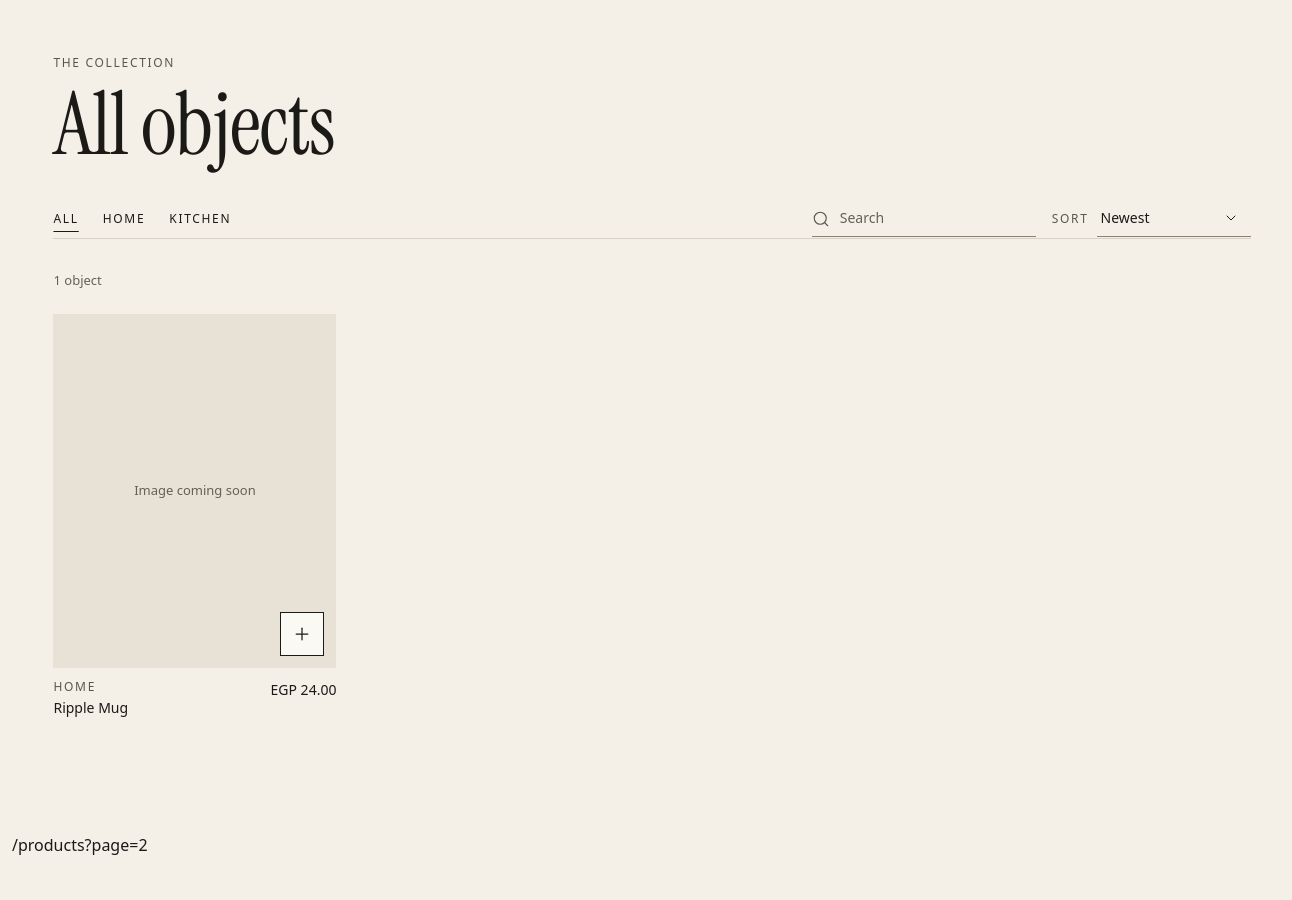
it: ProductsPage › searches after the typing pause, as a trimmed search parameter, and back at page 1
Expected: the link "Ripple Mug" is shown, [53,698,128,718]
Type "  mu " into the search field named "Search the collection" at (924, 219), box [812,200,1036,237]
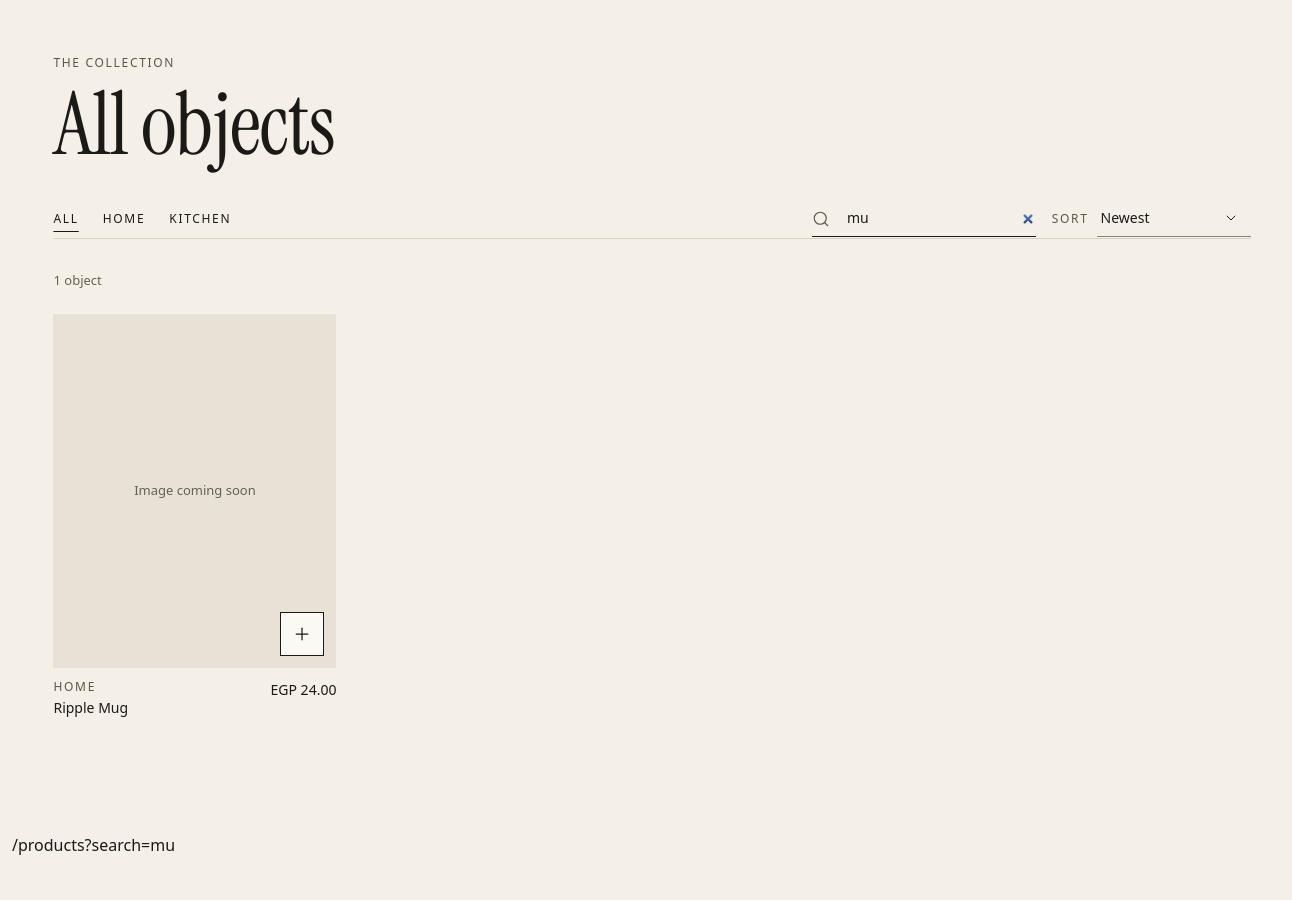
Now the text named "current url" reads "/products?search=mu", box [12,834,175,856]
Now the text named "current url" no longer shows "page=", box [12,834,175,856]
